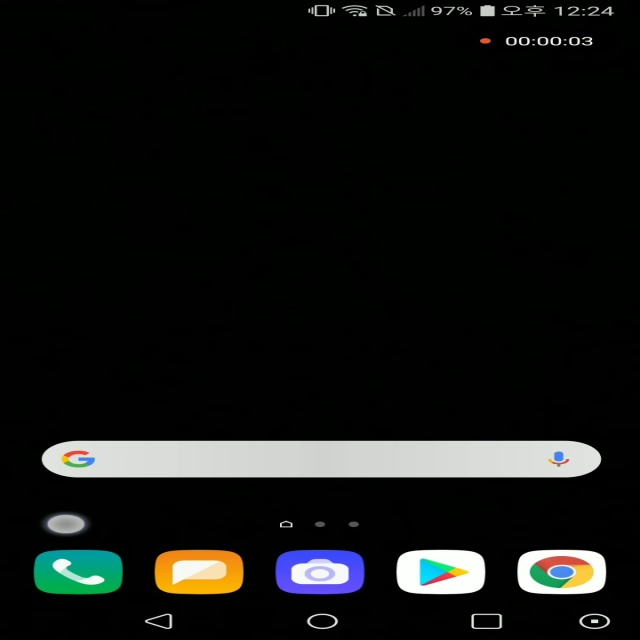Cursor: (45, 513, 89, 536)
